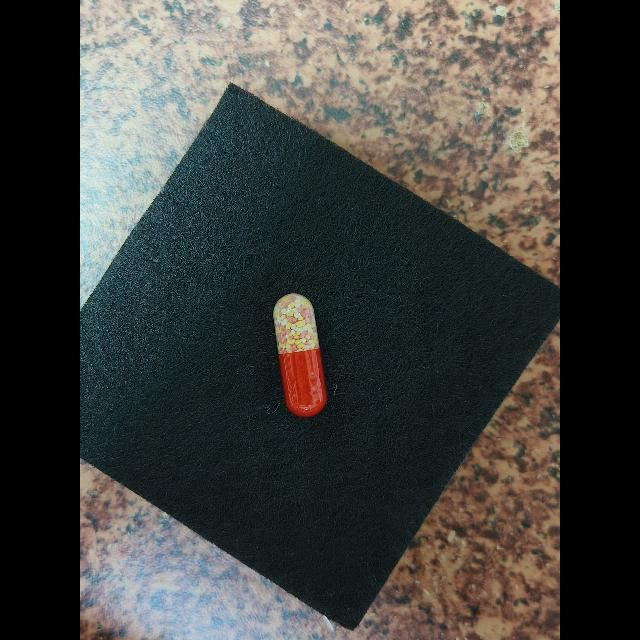Intact Capsule: (273, 293, 327, 416)
